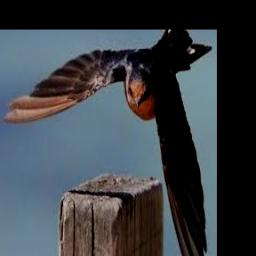Swallow: (4, 29, 212, 256)
